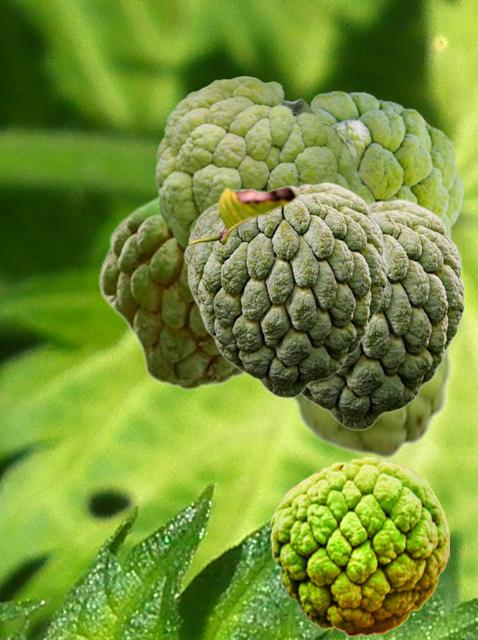atis: (183, 181, 386, 397), (301, 198, 464, 429), (155, 76, 358, 248), (269, 455, 448, 636), (96, 195, 246, 390), (308, 91, 462, 240), (286, 342, 453, 460)
